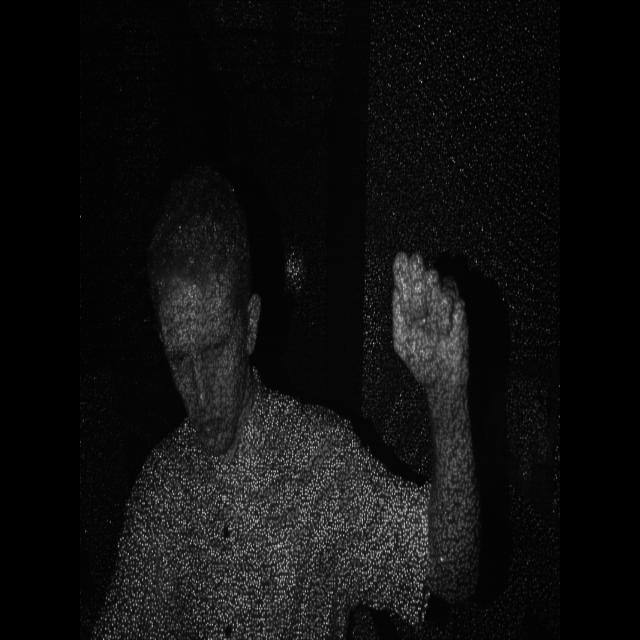N: (382, 227, 476, 404)
